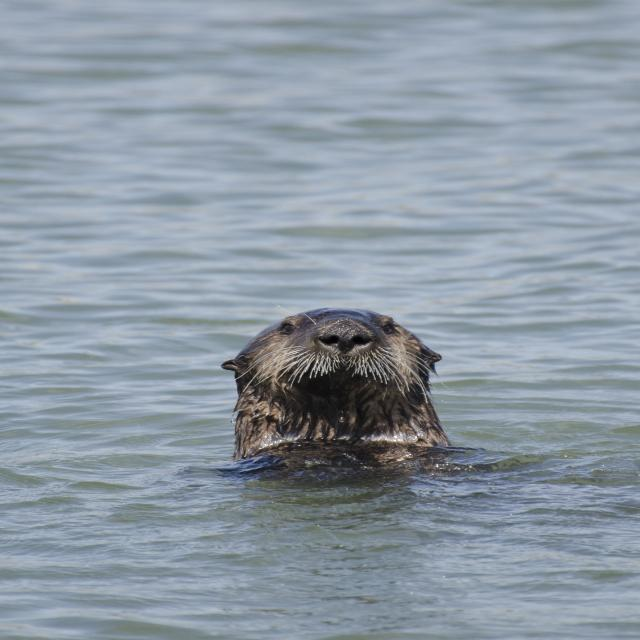otter: (224, 309, 450, 458)
